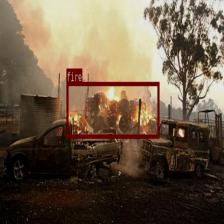fire: (66, 82, 159, 137)
